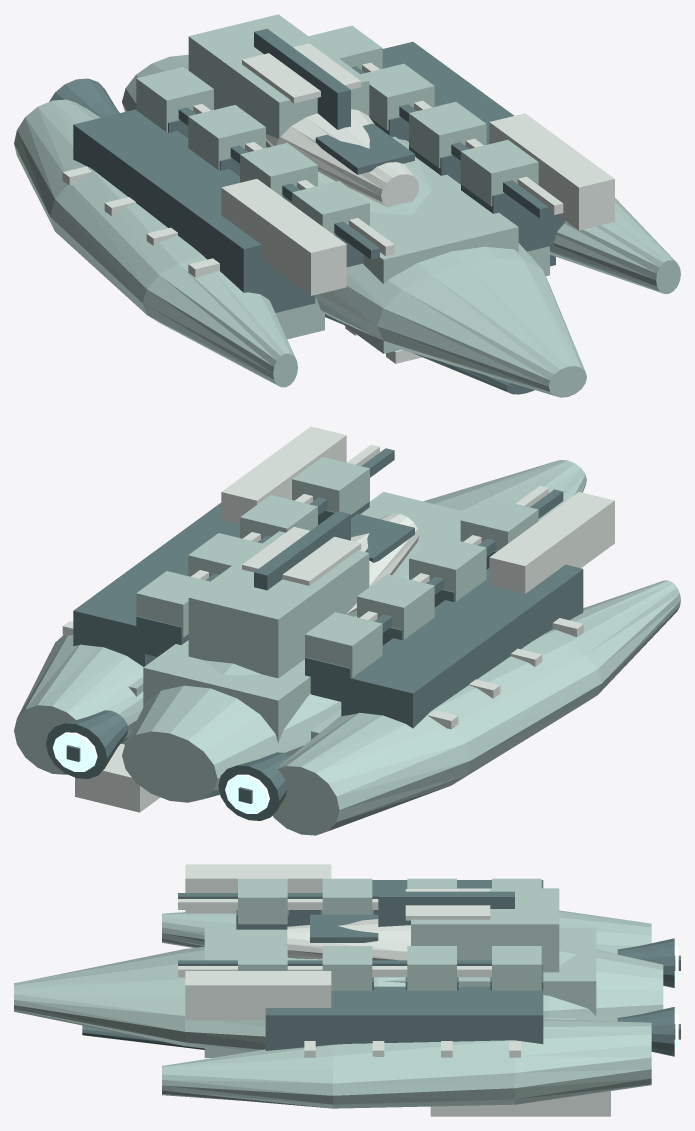
3 views of the same model, one above another, from view 1: azimuth 30°, elevation 25°; view 2: azimuth 150°, elevation 25°; view 3: azimuth 270°, elevation 25° (orthographic). The views are drawn at different scales.
Bounding box in the file's own units: 16.34 × 7.16 × 25.2.
